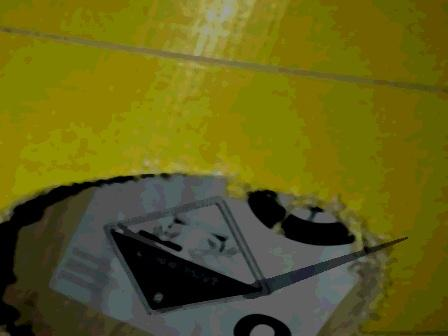corrosive: (92, 195, 274, 321)
